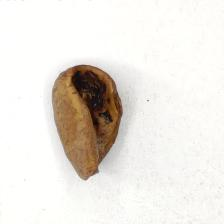NG: (69, 65, 122, 178)
